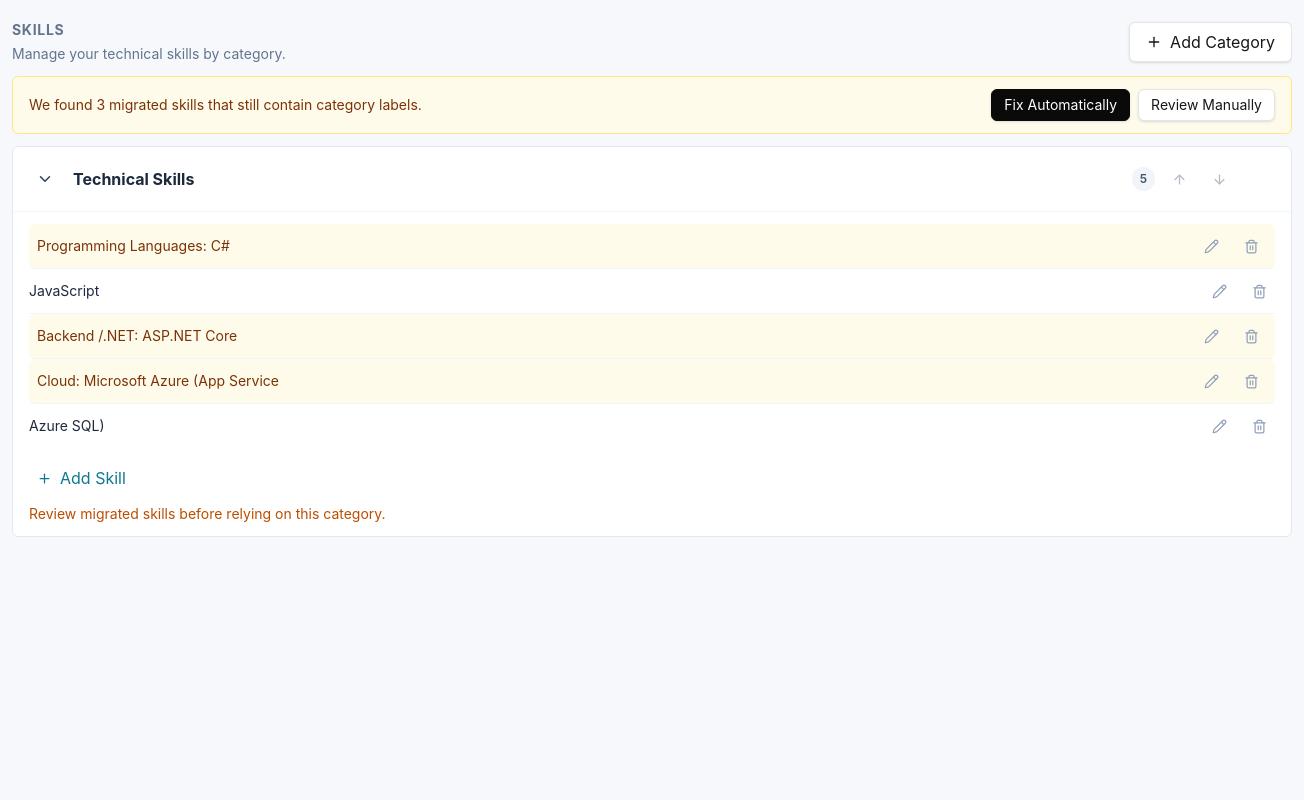
Test: SkillsCategoryEditor › shows migration banner and fixes label-prefixed skills automatically
Expected: the text "migrated skills that still contain category labels" is shown, [105,96,422,113]
Click the button "Fix Automatically" at [1061, 105], box [991,89,1130,121]
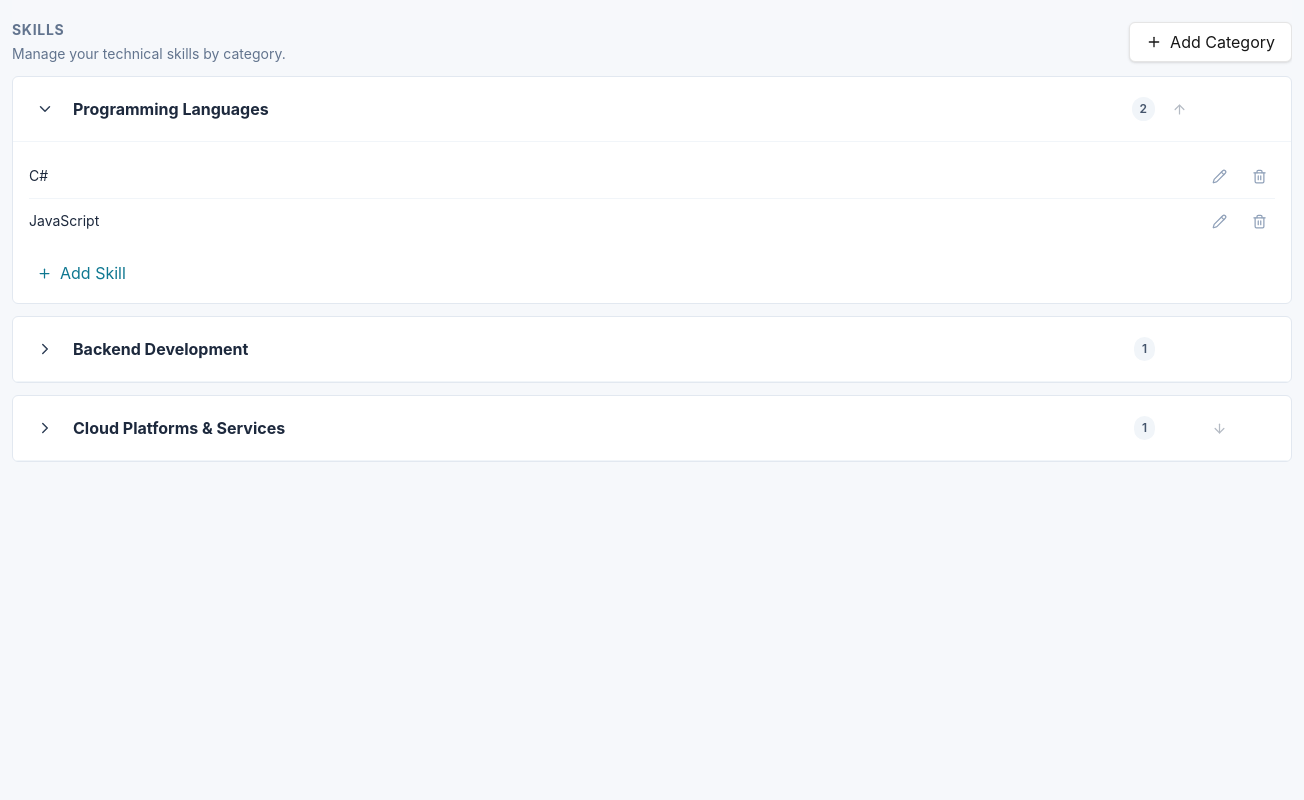
Expected: the text "Programming Languages" is shown, [73,99,269,119]
Expected: the text "Backend Development" is shown, [73,339,248,359]
Expected: the text "Cloud Platforms & Services" is shown, [73,418,285,438]
Click the button named "Expand Cloud Platforms & Services" at [45, 428], box [29,412,61,444]
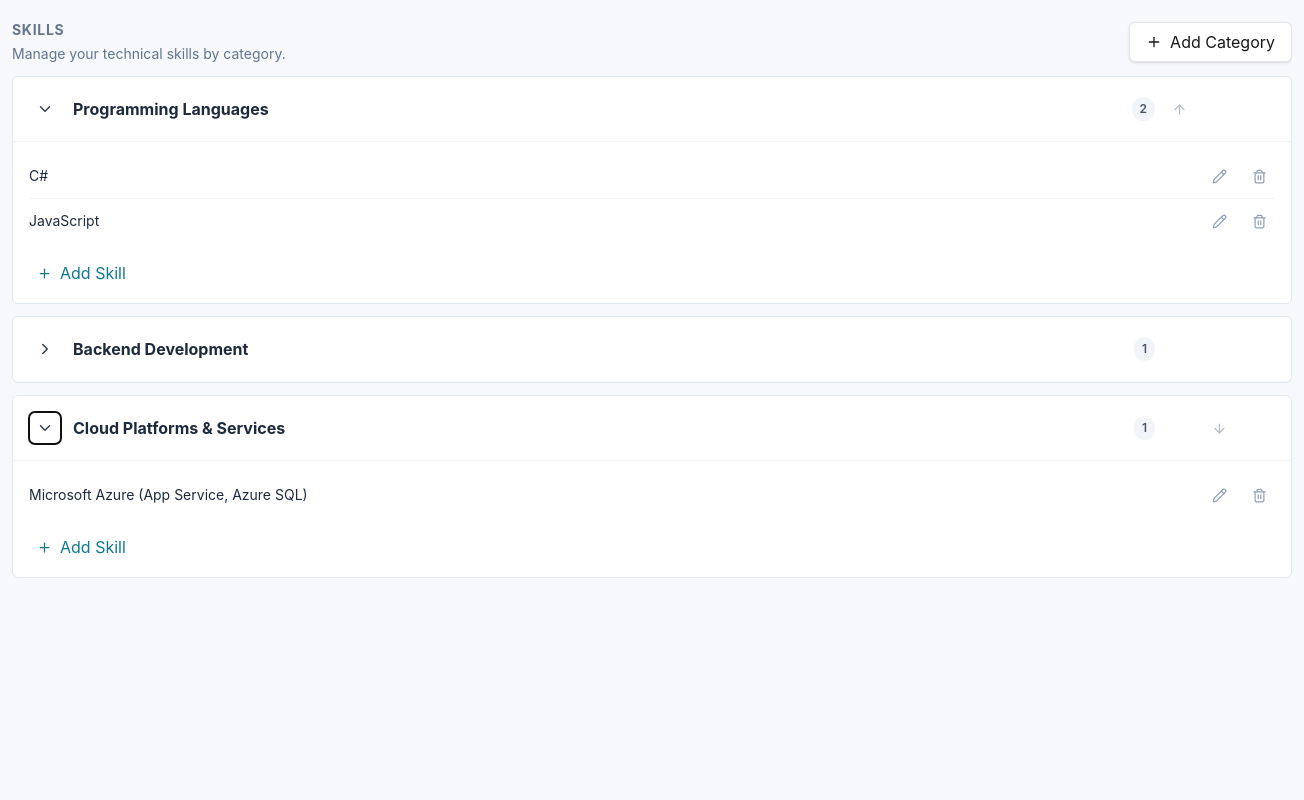
Expected: the text "Microsoft Azure (App Service, Azure SQL)" is shown, [29,486,308,503]
